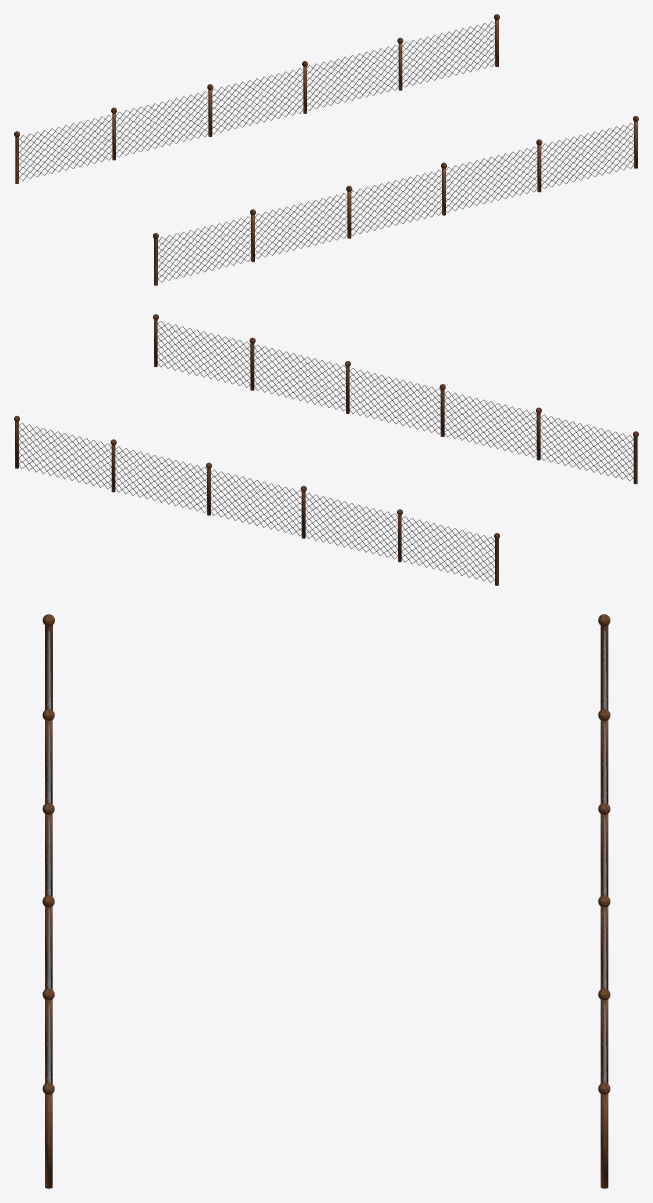
The model's file is pagarfull.fbx.
The picture shows the model from 3 angles, top to bottom: view 1: azimuth 30°, elevation 25°; view 2: azimuth 150°, elevation 25°; view 3: azimuth 270°, elevation 25°; orthographic projection. The views are drawn at different scales.
Visible parts, largest first — view 1: Cube.041, Cube.046, Cube.044, Cube.039, Cube.043, Cube.038, Cube.042, Cube.047, Cube.045, Cube.040; view 2: Cube.041, Cube.047, Cube.046, Cube.044, Cube.039, Cube.043, Cube.038, Cube.040, Cube.042, Cube.045; view 3: Cube.038, Cube.043, Cube.042, Cube.039, Cube.041, Cube.040, Cube.047, Cube.046, Cube.044, Cube.045.
Boxes of the visible parts, x1,y1,x2,y2 form: Cube.041: [116, 84, 213, 157]; Cube.046: [255, 186, 352, 258]; Cube.044: [446, 139, 542, 212]; Cube.039: [307, 37, 403, 110]; Cube.043: [541, 116, 638, 188]; Cube.038: [402, 14, 499, 87]; Cube.042: [19, 107, 116, 180]; Cube.047: [158, 209, 255, 282]; Cube.045: [351, 162, 446, 235]; Cube.040: [212, 61, 307, 133]; Cube.041: [300, 485, 397, 559]; Cube.047: [536, 407, 633, 480]; Cube.046: [439, 384, 536, 457]; Cube.044: [249, 337, 345, 411]; Cube.039: [110, 439, 206, 512]; Cube.043: [153, 314, 250, 387]; Cube.038: [14, 416, 111, 489]; Cube.040: [206, 462, 301, 536]; Cube.042: [397, 509, 494, 582]; Cube.045: [345, 361, 440, 434]; Cube.038: [598, 1004, 610, 1188]; Cube.043: [42, 1004, 54, 1188]; Cube.042: [598, 630, 610, 803]; Cube.039: [598, 910, 610, 1083]; Cube.041: [598, 724, 610, 896]; Cube.040: [598, 817, 610, 989]; Cube.047: [42, 630, 54, 803]; Cube.046: [42, 724, 54, 896]; Cube.044: [42, 910, 54, 1083]; Cube.045: [42, 817, 54, 989].
Bounding box in the file's own units: 1927 × 197 × 977.
3 materials, 2 textured.
